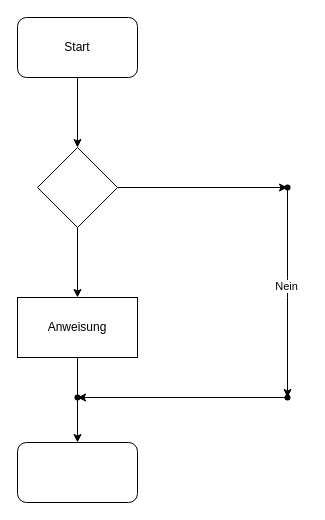
This 325x520 diagram has some shape labels left out. The centre of each missing label's shape, as x and y in pixels:
"a>b" belongs at [77,187].
"Stop" belongs at [77,472].
